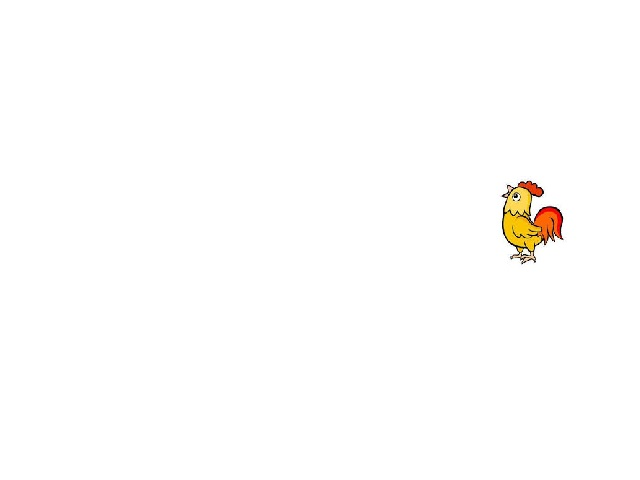crown: (520, 180, 544, 200)
eyes: (512, 192, 521, 202)
feet: (511, 253, 540, 267)
tail: (535, 207, 568, 242)
